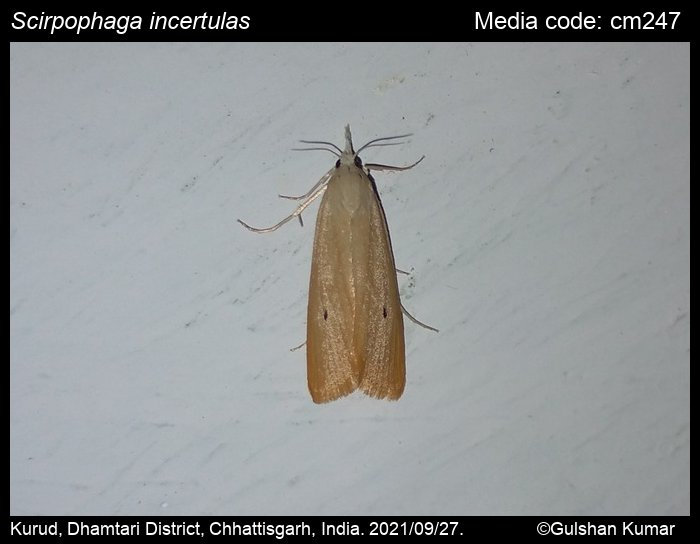Crambidae: (235, 119, 429, 407)
